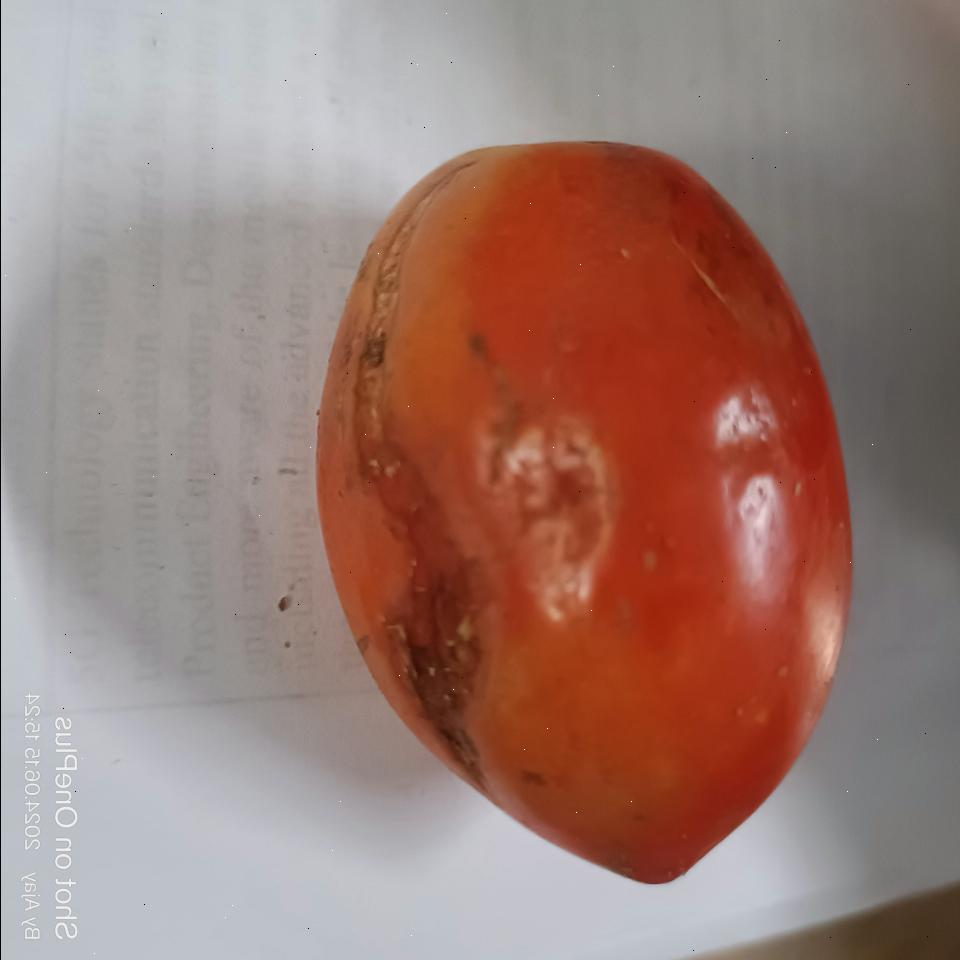Cracking: (341, 157, 493, 763)
